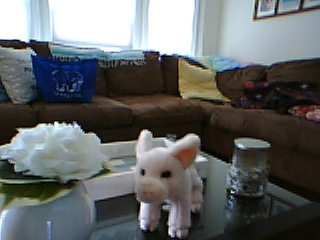piggy: (132, 128, 205, 239)
